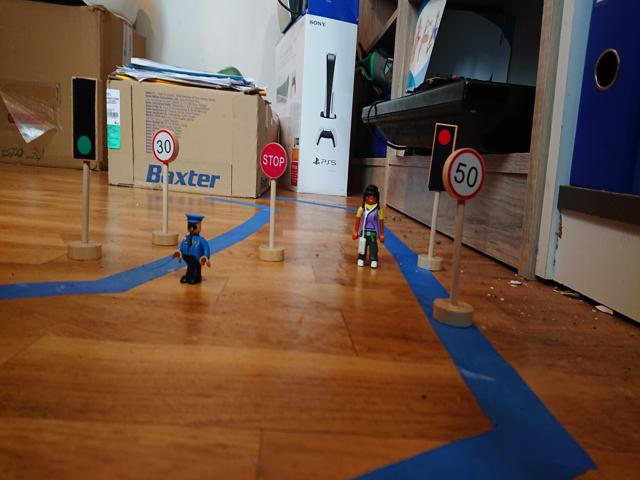30 speed sign: (151, 130, 176, 162)
50 speed sign: (445, 149, 485, 201)
green light: (75, 78, 94, 159)
person: (350, 182, 385, 268), (174, 210, 211, 285)
red light: (434, 125, 452, 158)
stop sign: (259, 142, 291, 181)
